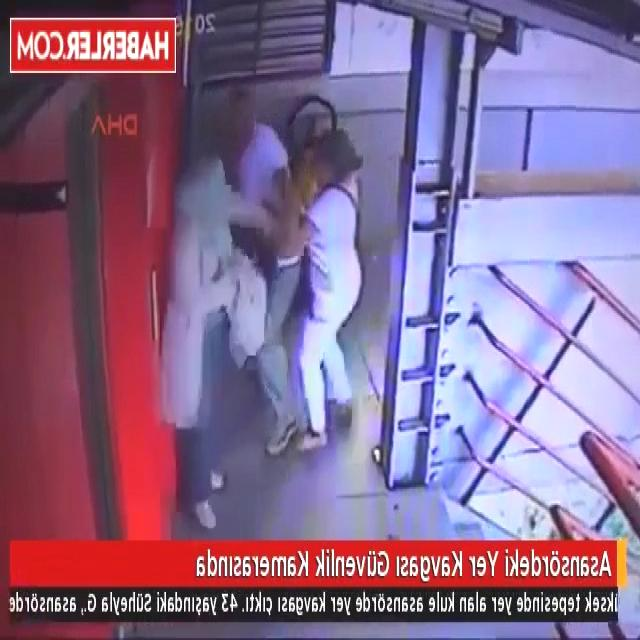fight: (246, 129, 376, 470)
